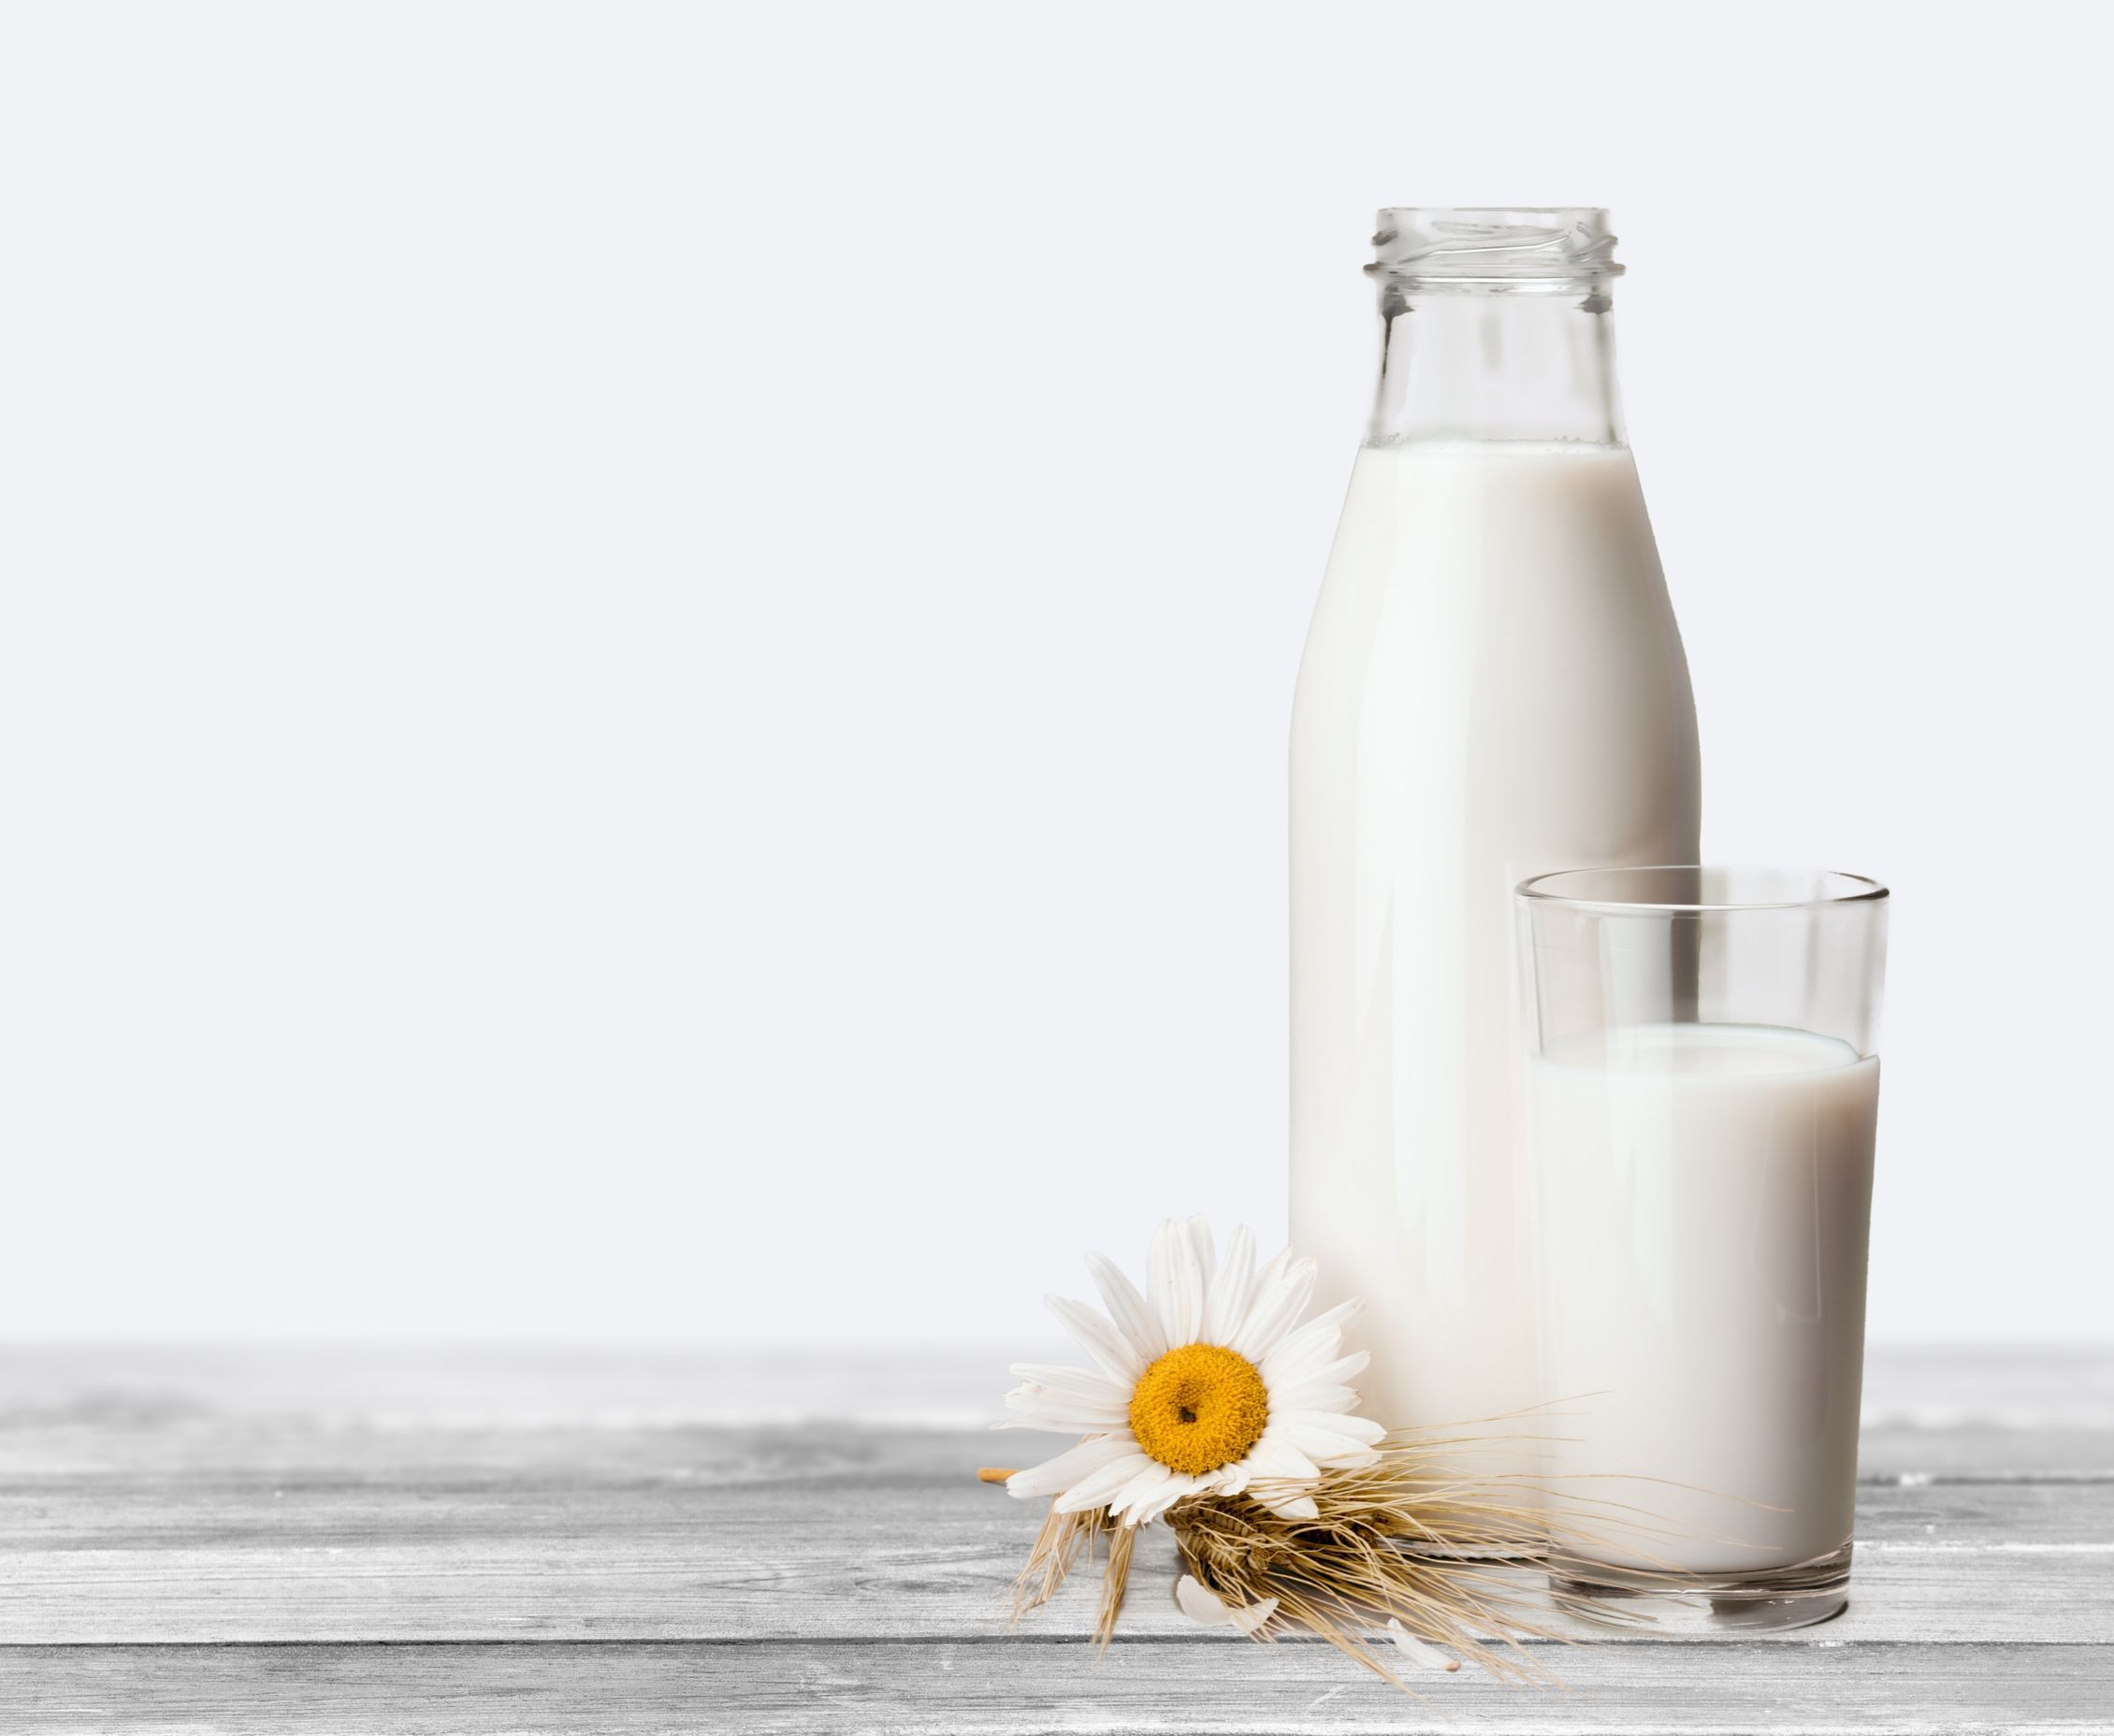glass of milk: (1273, 169, 1721, 1555), (1487, 850, 1917, 1646)
